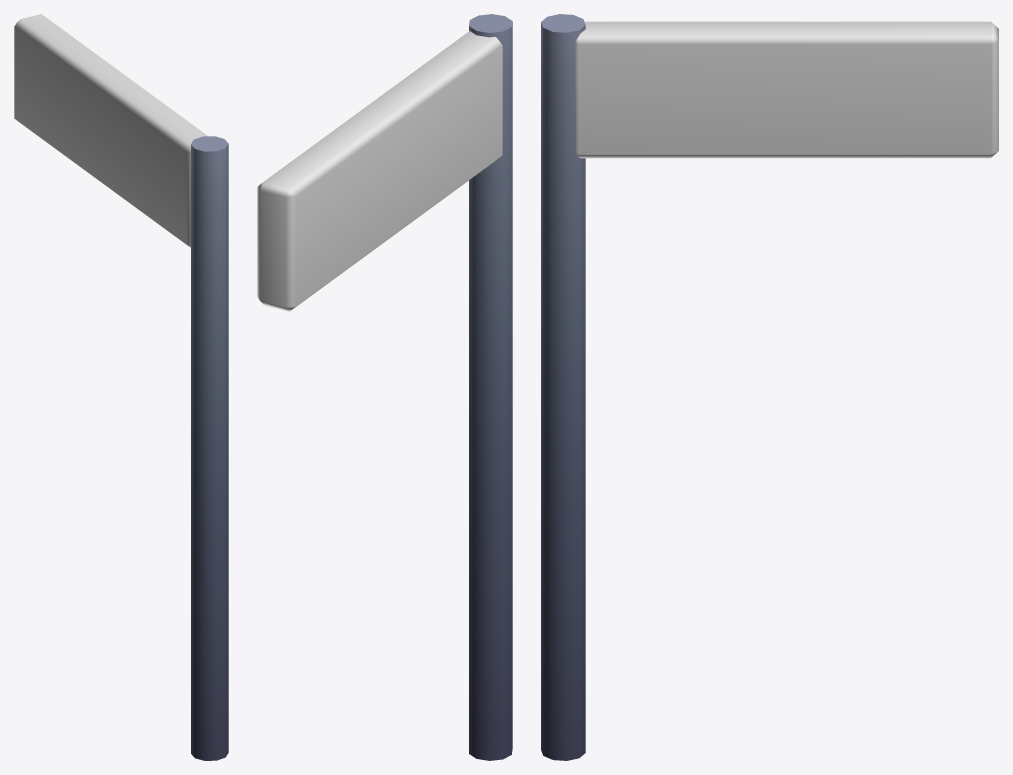
The model's file is SM_Sign.fbx.
3 renders of one model, left to right at view 1: azimuth 30°, elevation 25°; view 2: azimuth 150°, elevation 25°; view 3: azimuth 270°, elevation 25°, orthographic. The views are drawn at different scales.
Visible parts, largest first — view 1: SM_Sign; view 2: SM_Sign; view 3: SM_Sign.
Boxes of the visible parts, x1,y1,x2,y2 form: SM_Sign: (14,14,228,760); SM_Sign: (257,14,512,760); SM_Sign: (541,14,998,760).
Bounding box in the file's own units: 16.74 × 297 × 169.
